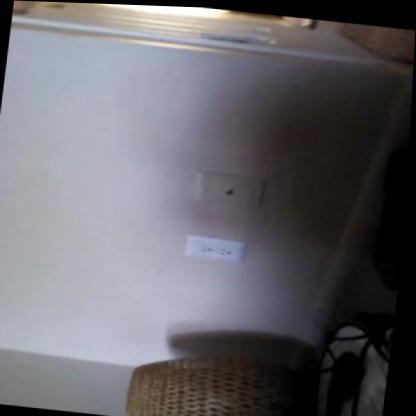OUTLET: (184, 234, 246, 262)
